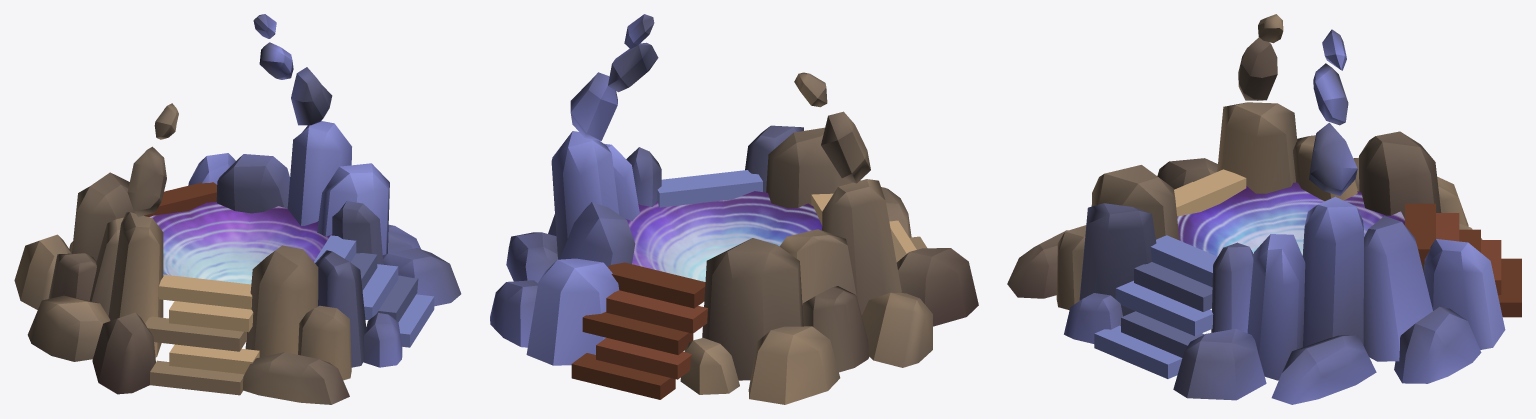
File: SM_DE_Portal.fbx
3 renders of one model, left to right at view 1: azimuth 30°, elevation 25°; view 2: azimuth 150°, elevation 25°; view 3: azimuth 270°, elevation 25°, orthographic. The views are drawn at different scales.
Visible parts, largest first — view 1: Portal1, Whirlpool; view 2: Portal1, Whirlpool; view 3: Portal1, Whirlpool.
Part boxes in pixels (bbox=[...]): Portal1: bbox=[14, 14, 461, 404]; Whirlpool: bbox=[149, 202, 332, 284]; Portal1: bbox=[490, 14, 978, 404]; Whirlpool: bbox=[626, 191, 822, 281]; Portal1: bbox=[1007, 14, 1521, 404]; Whirlpool: bbox=[1177, 182, 1404, 256].
Bounding box in the file's own units: 3.92 × 2.7 × 4.09.
